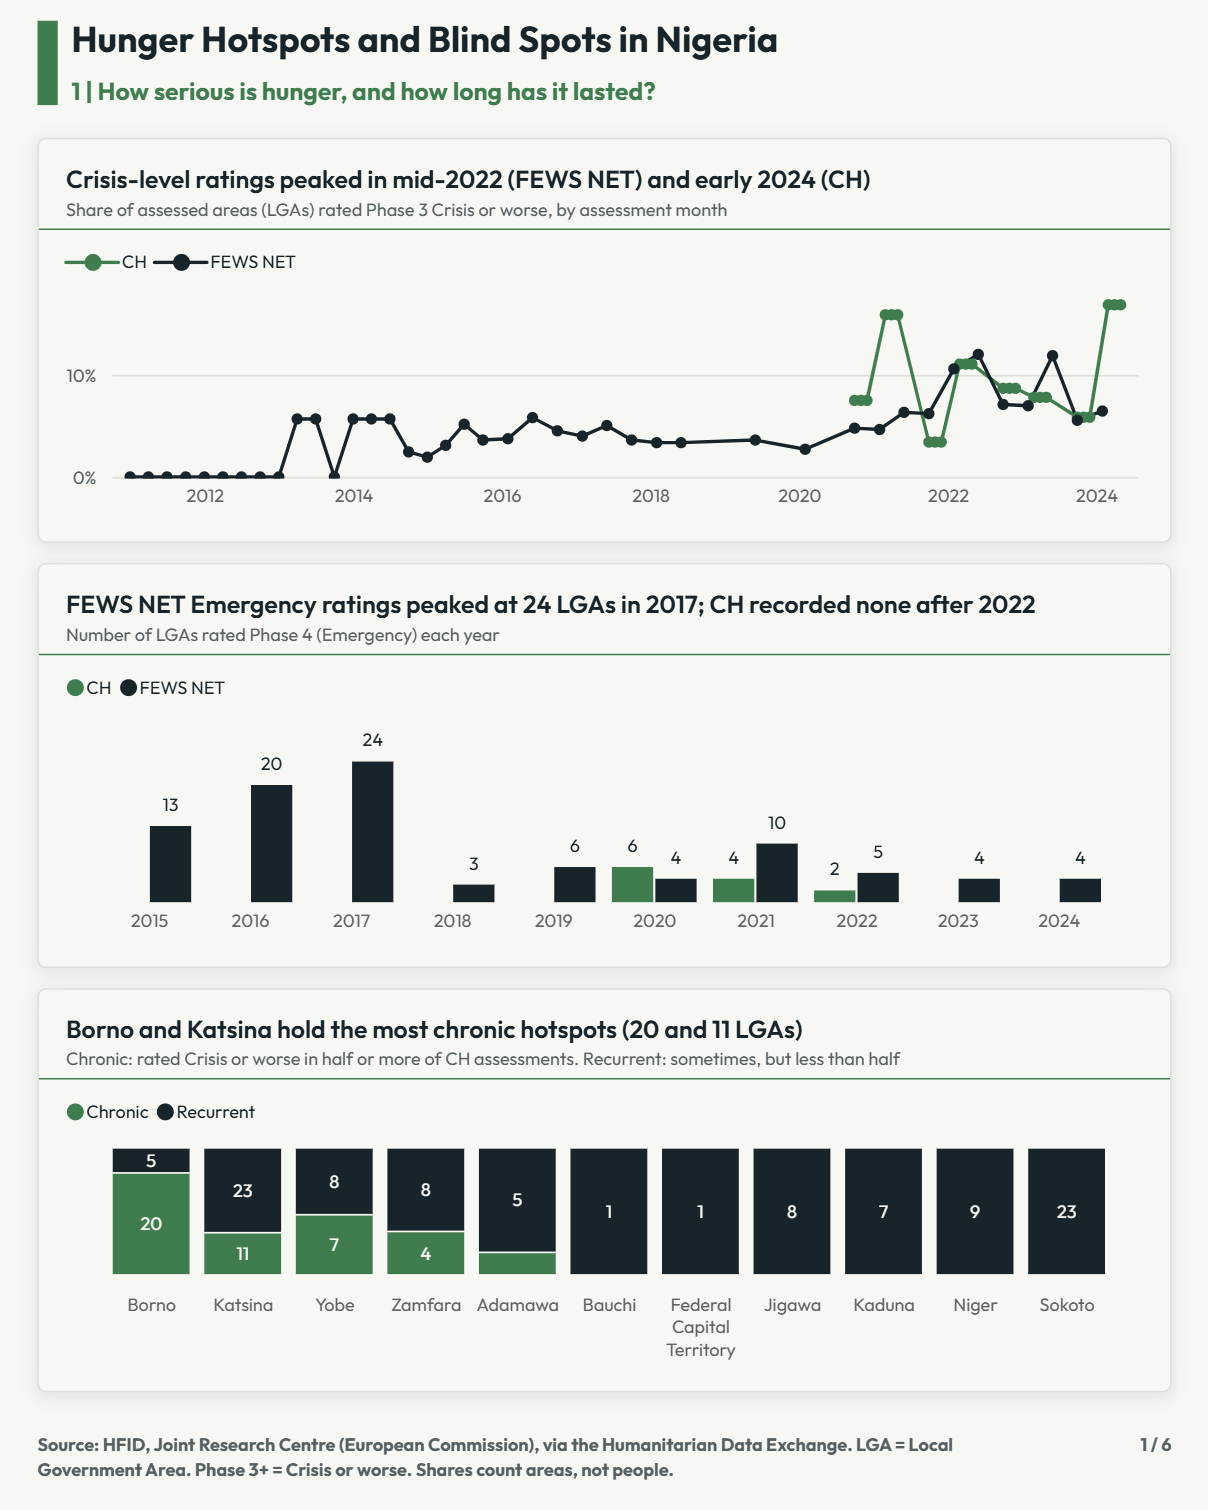

Layout of this report page (visuals, bound fields, positions):
{"tool":"powerbi","page":{"name":"1. Severity","canvas":[720,900],"ordinal":0},"visuals":[{"type":"shape","box":[24,15,12,50],"z":0},{"type":"textbox","box":[44,12,652,32],"z":1000},{"type":"textbox","box":[44,46,460,24],"z":2000},{"type":"textbox","box":[24,850,596,30],"z":3000},{"type":"textbox","box":[636,850,60,18],"z":4000},{"type":"lineChart","title":"Crisis-level ratings peaked in mid-2022 (FEWS NET) and early 2024 (CH)","fields":{"Category":["Dates.Date"],"Y":["_Measures.CH P3+ Share","_Measures.FEWS P3+ Share"]},"box":[24,84,672,240],"z":5000},{"type":"clusteredColumnChart","title":"FEWS NET Emergency ratings peaked at 24 LGAs in 2017; CH recorded none after 2022","fields":{"Category":["Dates.Year"],"Y":["_Measures.CH Emergency LGAs","_Measures.FEWS Emergency LGAs"]},"box":[24,336,672,240],"z":6000},{"type":"hundredPercentStackedColumnChart","title":"Borno and Katsina hold the most chronic hotspots (20 and 11 LGAs)","fields":{"Category":["Hunger.State"],"Y":["_Measures.Chronic LGAs","_Measures.Recurrent LGAs"]},"box":[24,588,672,240],"z":7000}]}

Visuals, with their boxes in screenshot pixels (x1, y1, x2, y2), scaled from the page's 720x900 canvas onto the 1208x1510 screenshot:
shape: box=[40, 25, 60, 109]
textbox: box=[74, 20, 1168, 74]
textbox: box=[74, 77, 846, 117]
textbox: box=[40, 1426, 1040, 1476]
textbox: box=[1067, 1426, 1168, 1456]
"Crisis-level ratings peaked in mid-2022 (FEWS NET) and early 2024 (CH)" lineChart: box=[40, 141, 1168, 544]
"FEWS NET Emergency ratings peaked at 24 LGAs in 2017; CH recorded none after 2022" clusteredColumnChart: box=[40, 564, 1168, 966]
"Borno and Katsina hold the most chronic hotspots (20 and 11 LGAs)" hundredPercentStackedColumnChart: box=[40, 987, 1168, 1389]
